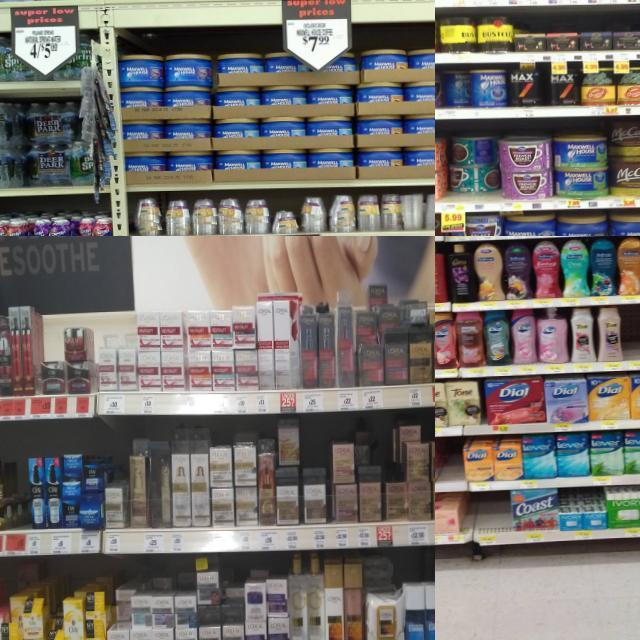Imprecise: (438, 136, 504, 206), (170, 420, 209, 522), (360, 552, 404, 640), (352, 434, 389, 518), (608, 120, 640, 198), (109, 590, 139, 640)
